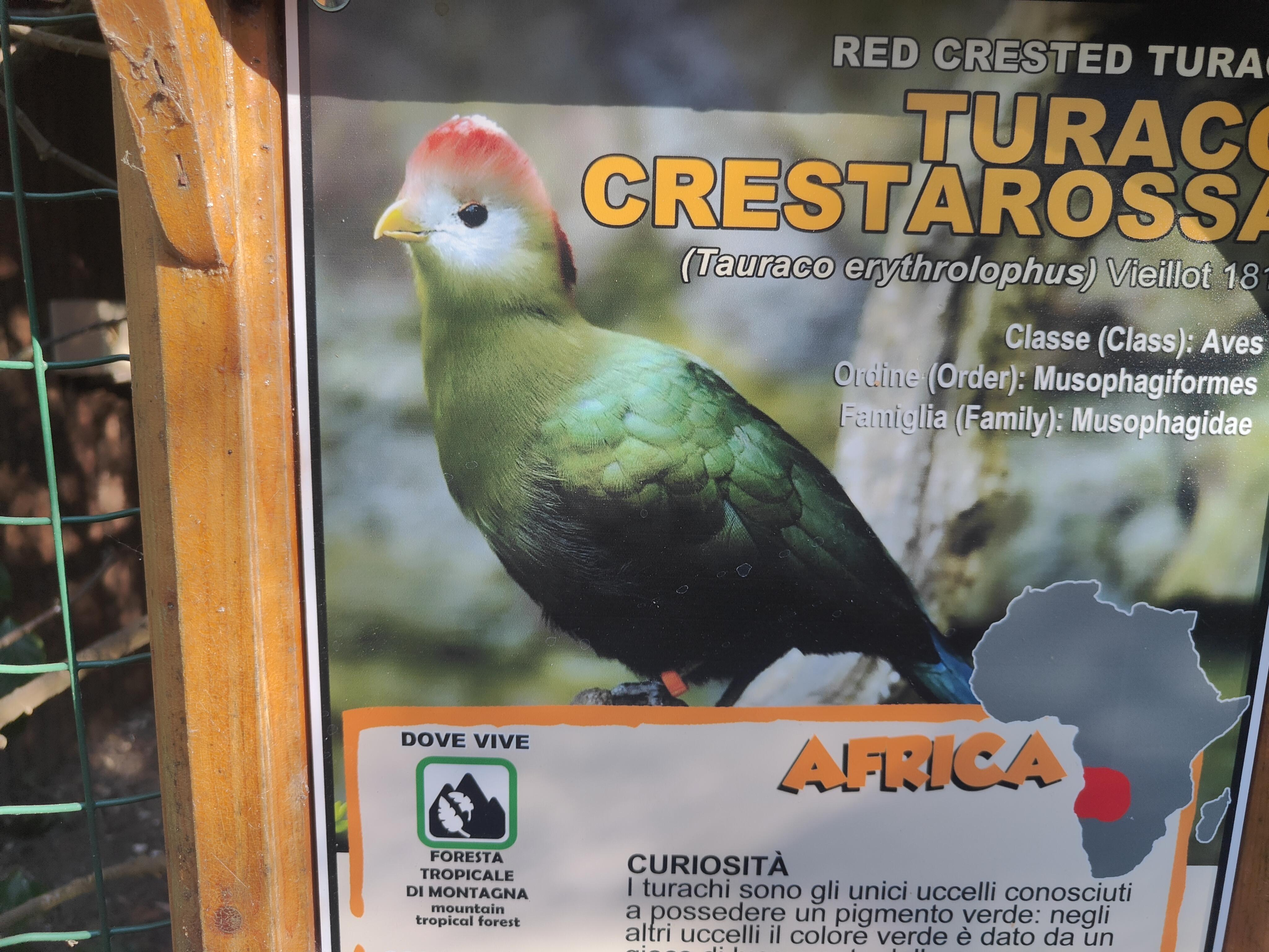apple: (372, 113, 975, 704)
